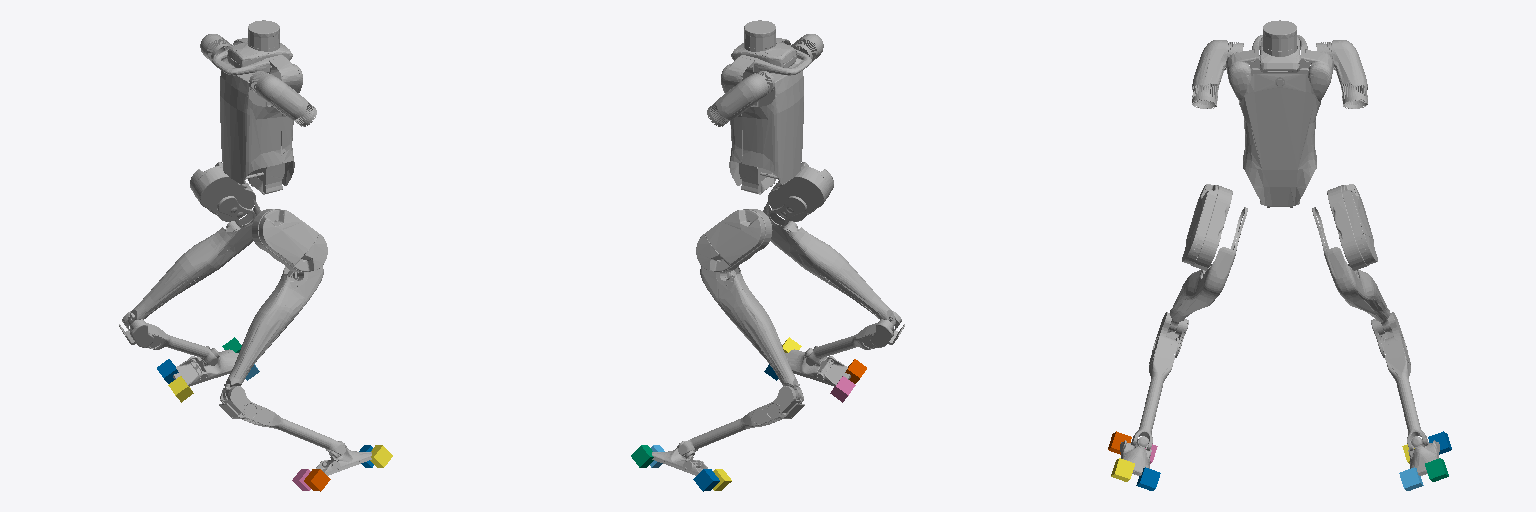
--- What the picture shows (computed from the rendered views, not written in the file) ---
Views: 3 orthographic renders of the robot side by side, from view 1: azimuth 30°, elevation 25°; view 2: azimuth 150°, elevation 25°; view 3: azimuth 270°, elevation 25°.
Robot: digit — 37 links, 36 joints (22 revolute, 14 fixed); root link torso; default pose: all joints at 0.
Links seen in each view (by area): view 1: torso, left_shin, right_shin, right_hip_pitch, left_hip_pitch, right_tarsus, right_shoulder_pitch, left_tarsus, left_toe_roll, right_toe_roll, right_shoulder_cap, left_shoulder_pitch; view 2: torso, right_shin, left_shin, left_hip_pitch, right_hip_pitch, left_tarsus, left_shoulder_pitch, right_tarsus, right_toe_roll, left_toe_roll, left_shoulder_cap, right_shoulder_pitch; view 3: torso, left_hip_pitch, right_hip_pitch, left_tarsus, right_tarsus, left_shin, right_shin, left_shoulder_pitch, right_shoulder_pitch, right_shoulder_cap, left_shoulder_cap, left_toe_roll (+1 smaller).
Boxes of the visible links, box(x1,y1,x2,y2) form: torso: box(212, 20, 294, 194); left_shin: box(128, 199, 260, 327); right_shin: box(224, 266, 323, 397); right_hip_pitch: box(252, 209, 327, 271); left_hip_pitch: box(190, 162, 255, 226); right_tarsus: box(219, 386, 345, 454); right_shoulder_pitch: box(249, 71, 316, 126); left_tarsus: box(119, 311, 217, 365); left_toe_roll: box(173, 348, 238, 386); right_toe_roll: box(316, 441, 371, 475); right_shoulder_cap: box(269, 57, 302, 92); left_shoulder_pitch: box(200, 34, 232, 63); torso: box(729, 20, 811, 194); right_shin: box(763, 199, 895, 327); left_shin: box(700, 266, 799, 397); left_hip_pitch: box(696, 209, 772, 271); right_hip_pitch: box(768, 162, 833, 226); left_tarsus: box(678, 386, 804, 454); left_shoulder_pitch: box(707, 71, 774, 126); right_tarsus: box(806, 311, 904, 365); right_toe_roll: box(785, 348, 850, 386); left_toe_roll: box(652, 441, 707, 475); left_shoulder_cap: box(721, 57, 754, 92); right_shoulder_pitch: box(791, 34, 823, 63); torso: box(1239, 20, 1320, 207); left_hip_pitch: box(1312, 184, 1377, 270); right_hip_pitch: box(1182, 184, 1247, 270); left_tarsus: box(1371, 312, 1428, 450); right_tarsus: box(1131, 312, 1188, 450); left_shin: box(1324, 247, 1392, 332); right_shin: box(1167, 247, 1235, 332); left_shoulder_pitch: box(1316, 40, 1367, 108); right_shoulder_pitch: box(1192, 40, 1243, 108); right_shoulder_cap: box(1226, 50, 1254, 102); left_shoulder_cap: box(1305, 50, 1333, 102); left_toe_roll: box(1408, 436, 1439, 475).
Size in the robot's own frame: 0.5285 by 1.01 by 1.44 metres.
Meshes: 14 distinct files referenced, 13 mesh visuals loaded (7 binary STL); not drawn: 14 (reference not matched to a file when rendering).

URDF robot description (digit):
<?xml version="1.0" encoding="utf-8"?>
<robot name="digit">
<!--  <mujoco>-->
<!--    <compiler meshdir="./meshes/" balanceinertia="true" discardvisual="false"/>-->
<!--  </mujoco>-->

<!--  <link name="base">-->
<!--    &lt;!&ndash; <visual>-->
<!--      <origin rpy="0 0 0" xyz="0 0 0"/>-->
<!--      <geometry>-->
<!--        <box size="0.001 0.001 0.001"/>-->
<!--      </geometry>-->
<!--    
      <material name="LightGrey">
          <color rgba="0.7 0.7 0.7 1.0"/>
        </material></visual>  &ndash;&gt;-->
<!--  </link>-->
<!--  <joint name="floating_base" type="revolute">-->
<!--    <origin rpy="0 0 0" xyz="0 0 0"/>-->
<!--    <parent link="base"/>-->
<!--    <child link="torso"/>-->
<!--  </joint>-->

  <link name="torso">
    <inertial>
      <origin rpy="0 0 0" xyz="0.001637 0.0002 0.259547"/>
      <mass value="15.028392"/>
      <inertia ixx="0.376284" ixy="-8.8e-05" ixz="0.008378" iyy="0.342655" iyz="6.7e-05" izz="0.100648"/>
    </inertial>
     <visual>
      <origin rpy="0 0 0" xyz="0 0 0"/>
      <geometry>
        <mesh filename="package://digit_description//meshes/torso.stl"/>
      </geometry>
    
      <material name="LightGrey">
          <color rgba="0.7 0.7 0.7 1.0"/>
        </material></visual> 
    <collision>
      <origin rpy="0 0 0" xyz="0 0 0"/>
      <geometry>
        <mesh filename="package://digit_description//meshes/torso.stl"/>
      </geometry>
    </collision>
  </link>
  <link name="left_hip_roll">
    <inertial>
      <origin rpy="0 0 0" xyz="-0.001967 0.000244 0.031435"/>
      <mass value="0.915088"/>
      <inertia ixx="0.001017" ixy="-3e-06" ixz="1.3e-05" iyy="0.001148" iyz="-4e-06" izz="0.000766"/>
    </inertial>
     <visual>
      <origin rpy="0 0 0" xyz="0 0 0"/>
      <geometry>
        <mesh filename="package://digit_description//meshes/hip-yaw-housing.stl"/>
      </geometry>
    
      <material name="LightGrey">
          <color rgba="0.7 0.7 0.7 1.0"/>
        </material>
      <material name="LightGrey">
          <color rgba="0.7 0.7 0.7 1.0"/>
        </material></visual> 
    <collision>
      <origin rpy="0 0 0" xyz="0 0 0"/>
      <geometry>
        <mesh filename="package://digit_description//meshes/hip-yaw-housing.stl"/>
      </geometry>
    </collision> 
  </link>
  <link name="left_hip_yaw">
    <inertial>
      <origin rpy="0 0 0" xyz="1e-05 -0.001945 0.042033"/>
      <mass value="0.818753"/>
      <inertia ixx="0.001627" ixy="-1e-06" ixz="2e-06" iyy="0.001929" iyz="5.3e-05" izz="0.00077"/>
    </inertial>
     <visual>
      <origin rpy="0 0 0" xyz="0 0 0"/>
      <geometry>
        <mesh filename="package://digit_description//meshes/hip-pitch-housing.stl"/>
      </geometry>
    
      <material name="LightGrey">
          <color rgba="0.7 0.7 0.7 1.0"/>
        </material></visual> 
    <collision>
      <origin rpy="0 0 0" xyz="0 0 0"/>
      <geometry>
        <mesh filename="package://digit_description//meshes/hip-pitch-housing.stl"/>
      </geometry>
    </collision> 
  </link>
  <link name="left_hip_pitch">
    <inertial>
      <origin rpy="0 0 0" xyz="0.060537 0.000521 -0.038857"/>
      <mass value="6.244279"/>
      <inertia ixx="0.011533" ixy="-0.000171" ixz="0.000148" iyy="0.033345" iyz="0.000178" izz="0.033958"/>
    </inertial>
     <visual>
      <origin rpy="0 0 0" xyz="0 0 0"/>
      <geometry>
        <mesh filename="package://digit_description//meshes/hip-pitch.stl"/>
      </geometry>
    
      <material name="LightGrey">
          <color rgba="0.7 0.7 0.7 1.0"/>
        </material></visual> 
    <collision>
      <origin rpy="0 0 0" xyz="0 0 0"/>
      <geometry>
        <mesh filename="package://digit_description//meshes/hip-pitch.stl"/>
      </geometry>
    </collision> 
  </link>
  <link name="left_knee">
    <inertial>
      <origin rpy="0 0 0" xyz="0.045641 0.042154 0.001657"/>
      <mass value="1.227077"/>
      <inertia ixx="0.002643" ixy="-0.001832" ixz="6.6e-05" iyy="0.005098" iyz="4.5e-05" izz="0.007019"/>
    </inertial>
     <visual>
      <origin rpy="0 0 0" xyz="0 0 0"/>
      <geometry>
        <mesh filename="package://digit_description//meshes/knee.stl"/>
      </geometry>
    
      <material name="LightGrey">
          <color rgba="0.7 0.7 0.7 1.0"/>
        </material></visual> 
    <collision>
      <origin rpy="0 0 0" xyz="0 0 0"/>
      <geometry>
        <mesh filename="package://digit_description//meshes/knee.stl"/>
      </geometry>
    </collision> 
  </link>
  <link name="left_shin">
    <inertial>
      <origin rpy="0 0 0" xyz="0.174265 0.010265 0.00107"/>
      <mass value="0.895793"/>
      <inertia ixx="0.001128" ixy="0.001098" ixz="0.000196" iyy="0.022492" iyz="-3e-06" izz="0.022793"/>
    </inertial>
     <visual>
      <origin rpy="0 0 0" xyz="0 0 0"/>
      <geometry>
        <mesh filename="package://digit_description//meshes/shin.stl"/>
      </geometry>
    
      <material name="LightGrey">
          <color rgba="0.7 0.7 0.7 1.0"/>
        </material></visual> 
    <collision>
      <origin rpy="0 0 0" xyz="0 0 0"/>
      <geometry>
        <mesh filename="package://digit_description//meshes/shin.stl"/>
      </geometry>
    </collision> 
  </link>
  <link name="left_tarsus">
    <inertial>
      <origin rpy="0 0 0" xyz="0.000932 -0.029183 0.000678"/>
      <mass value="1.322865"/>
      <inertia ixx="0.000932" ixy="0.00061" ixz="0.000102" iyy="0.016409" iyz="9e-06" izz="0.016501"/>
    </inertial>
     <visual>
      <origin rpy="0 0 0" xyz="0 0 0"/>
      <geometry>
        <mesh filename="package://digit_description//meshes/tarsus.stl"/>
      </geometry>
    
      <material name="LightGrey">
          <color rgba="0.7 0.7 0.7 1.0"/>
        </material></visual> 
    <collision>
      <origin rpy="0 0 0" xyz="0 0 0"/>
      <geometry>
        <mesh filename="package://digit_description//meshes/tarsus.stl"/>
      </geometry>
    </collision> 
  </link>
  <link name="left_toe_pitch">
    <inertial>
      <origin rpy="0 0 0" xyz="-0.000141 2e-06 3e-06"/>
      <mass value="0.043881"/>
      <inertia ixx="5e-06" ixy="0" ixz="0" iyy="8e-06" iyz="0" izz="5e-06"/>
    </inertial>
     <visual>
      <origin rpy="0 0 0" xyz="0 0 0"/>
      <geometry>
        <mesh filename="package://digit_description//meshes/toe-pitch.stl"/>
      </geometry>
    
      <material name="LightGrey">
          <color rgba="0.7 0.7 0.7 1.0"/>
        </material></visual> 
    <collision>
      <origin rpy="0 0 0" xyz="0 0 0"/>
      <geometry>
        <mesh filename="package://digit_description//meshes/toe-pitch.stl"/>
      </geometry>
    </collision> 
  </link>
  <link name="left_toe_roll">
    <inertial>
      <origin rpy="0 0 0" xyz="9e-06 -0.028084 -0.023204"/>
      <mass value="0.531283"/>
      <inertia ixx="0.00187" ixy="0" ixz="0" iyy="0.001616" iyz="0.000566" izz="0.000843"/>
    </inertial>
     <visual>
      <origin rpy="0 0 0" xyz="0 0 0"/>
      <geometry>
        <mesh filename="package://digit_description//meshes/toe-roll.stl"/>
      </geometry>
    
      <material name="LightGrey">
          <color rgba="0.7 0.7 0.7 1.0"/>
        </material></visual> 
    <collision>
      <origin rpy="0 0 0" xyz="0 0 0"/>
      <geometry>
        <mesh filename="package://digit_description//meshes/toe-roll.stl"/>
      </geometry>
    </collision> 
  </link>
  <link name="contact1">
    <visual>
      <origin rpy="0 0 0" xyz="-0.04000014 -0.11085709 0.07003817"/>
      <geometry>
        <box size="0.05 0.05 0.05" rgba="0 0 1"/>
      </geometry>
    </visual>
  </link>
  <link name="contact2">
    <visual>
      <origin rpy="0 0 0" xyz="0.03999983 -0.11082681 0.07005585"/>
      <geometry>
        <box size="0.05 0.05 0.05" rgba="1 1 0"/>
      </geometry>
    </visual>
  </link>
    <link name="contact3">
    <visual>
      <origin rpy="0 0 0" xyz="-0.04000029 0.00799069 -0.13385178"/>
      <geometry>
        <box size="0.05 0.05 0.05" rgba="1 0 0"/>
      </geometry>
    </visual>
  </link>
  <link name="contact4">
    <visual>
      <origin rpy="0 0 0" xyz="0.03999968 0.00802097 -0.13383410"/>
      <geometry>
        <box size="0.05 0.05 0.05" rgba="0 1 0"/>
      </geometry>
    </visual>
  </link>
  <link name="left_shoulder_roll">
    <inertial>
      <origin rpy="0 0 0" xyz="9e-06 -0.003158 0.023405"/>
      <mass value="0.535396"/>
      <inertia ixx="0.000704" ixy="1.4e-05" ixz="1.2e-05" iyy="0.00075" iyz="3.5e-05" izz="0.000298"/>
    </inertial>
     <visual>
      <origin rpy="0 0 0" xyz="0 0 0"/>
      <geometry>
        <mesh filename="package://digit_description//meshes/arm-L1.stl"/>
      </geometry>
    
      <material name="LightGrey">
          <color rgba="0.7 0.7 0.7 1.0"/>
        </material></visual> 
    <collision>
      <origin rpy="0 0 0" xyz="0 0 0"/>
      <geometry>
        <mesh filename="package://digit_description//meshes/arm-L1.stl"/>
      </geometry>
    </collision> 
  </link>
  <link name="left_shoulder_cap">
    <inertial>
      <origin rpy="0 0 0" xyz="9e-06 -0.003158 0.023405"/>
      <mass value="0.535396"/>
      <inertia ixx="0.000704" ixy="1.4e-05" ixz="1.2e-05" iyy="0.00075" iyz="3.5e-05" izz="0.000298"/>
    </inertial>
     <visual>
      <origin rpy="0 0 0" xyz="0 0 0"/>
      <geometry>
        <mesh filename="package://digit_description//meshes/shoulder-roll-housing.stl"/>
      </geometry>
    
      <material name="LightGrey">
          <color rgba="0.7 0.7 0.7 1.0"/>
        </material></visual> 
    <collision>
      <origin rpy="0 0 0" xyz="0 0 0"/>
      <geometry>
        <mesh filename="package://digit_description//meshes/shoulder-roll-housing.stl"/>
      </geometry>
    </collision> 
  </link>
  <link name="left_waist_cap">
    <inertial>
      <origin rpy="0 0 0" xyz="9e-06 -0.003158 0.023405"/>
      <mass value="0.535396"/>
      <inertia ixx="0.000704" ixy="1.4e-05" ixz="1.2e-05" iyy="0.00075" iyz="3.5e-05" izz="0.000298"/>
    </inertial>
  </link>
  <link name="left_shoulder_pitch">
    <inertial>
      <origin rpy="0 0 0" xyz="-4.2e-05 -0.061882 -0.073788"/>
      <mass value="1.440357"/>
      <inertia ixx="0.006761" ixy="-6e-06" ixz="-3e-06" iyy="0.002087" iyz="-0.002046" izz="0.005778"/>
    </inertial>
     <visual>
      <origin rpy="0 0 0" xyz="0 0 0"/>
      <geometry>
        <mesh filename="package://digit_description//meshes/arm-L2.stl"/>
      </geometry>
    
      <material name="LightGrey">
          <color rgba="0.7 0.7 0.7 1.0"/>
        </material></visual> 
    <collision>
      <origin rpy="0 0 0" xyz="0 0 0"/>
      <geometry>
        <mesh filename="package://digit_description//meshes/arm-L2.stl"/>
      </geometry>
    </collision> 
  </link>
  <link name="left_shoulder_yaw">
    <inertial>
      <origin rpy="0 0 0" xyz="-3e-05 -0.001937 0.11407"/>
      <mass value="1.065387"/>
      <inertia ixx="0.006967" ixy="1e-06" ixz="-1e-06" iyy="0.007003" iyz="1.5e-05" izz="0.000673"/>
    </inertial>
     <visual>
      <origin rpy="0 0 0" xyz="0 0 0"/>
      <geometry>
        <mesh filename="package://digit_description//meshes/arm-L3.stl"/>
      </geometry>
    
      <material name="LightGrey">
          <color rgba="0.7 0.7 0.7 1.0"/>
        </material></visual> 
    <collision>
      <origin rpy="0 0 0" xyz="0 0 0"/>
      <geometry>
        <mesh filename="package://digit_description//meshes/arm-L3.stl"/>
      </geometry>
    </collision> 
  </link>
  <link name="left_elbow">
    <inertial>
      <origin rpy="0 0 0" xyz="0.107996 -0.000521 -0.017765"/>
      <mass value="0.550582"/>
      <inertia ixx="0.000476" ixy="2.9e-05" ixz="0.001403" iyy="0.009564" iyz="1.5e-05" izz="-9e-06"/>
    </inertial>
     <visual>
      <origin rpy="0 0 0" xyz="0 0 0"/>
      <geometry>
        <mesh filename="package://digit_description//meshes/arm-L4.stl"/>
      </geometry>
    
      <material name="LightGrey">
          <color rgba="0.7 0.7 0.7 1.0"/>
        </material></visual> 
    <collision>
      <origin rpy="0 0 0" xyz="0 0 0"/>
      <geometry>
        <mesh filename="package://digit_description//meshes/arm-L4.stl"/>
      </geometry>
    </collision> 
  </link>
  <link name="right_hip_roll">
    <inertial>
      <origin rpy="0 0 0" xyz="-0.001967 -0.000244 0.031435"/>
      <mass value="0.915088"/>
      <inertia ixx="0.001017" ixy="3e-06" ixz="1.3e-05" iyy="0.001148" iyz="4e-06" izz="0.000766"/>
    </inertial>
     <visual>
      <origin rpy="0 0 0" xyz="0 0 0"/>
      <geometry>
        <mesh filename="package://digit_description//meshes/hip-yaw-housing.stl" scale="1 -1 1"/>
      </geometry>
    
      <material name="LightGrey">
          <color rgba="0.7 0.7 0.7 1.0"/>
        </material></visual> 
    <collision>
      <origin rpy="0 0 0" xyz="0 0 0"/>
      <geometry>
        <mesh filename="package://digit_description//meshes/hip-yaw-housing.stl" scale="1 -1 1"/>
      </geometry>
    </collision> 
  </link>
  <link name="right_hip_yaw">
    <inertial>
      <origin rpy="0 0 0" xyz="1e-05 0.001945 0.042033"/>
      <mass value="0.818753"/>
      <inertia ixx="0.001627" ixy="1e-06" ixz="2e-06" iyy="0.001929" iyz="-5.3e-05" izz="0.00077"/>
    </inertial>
     <visual>
      <origin rpy="0 0 0" xyz="0 0 0"/>
      <geometry>
        <mesh filename="package://digit_description//meshes/hip-pitch-housing.stl" scale="1 -1 1"/>
      </geometry>
    
      <material name="LightGrey">
          <color rgba="0.7 0.7 0.7 1.0"/>
        </material></visual> 
    <collision>
      <origin rpy="0 0 0" xyz="0 0 0"/>
      <geometry>
        <mesh filename="package://digit_description//meshes/hip-pitch-housing.stl" scale="1 -1 1"/>
      </geometry>
    </collision> 
  </link>
  <link name="right_hip_pitch">
    <inertial>
      <origin rpy="0 0 0" xyz="0.060537 -0.000521 -0.038857"/>
      <mass value="6.244279"/>
      <inertia ixx="0.011533" ixy="0.000171" ixz="0.000148" iyy="0.033345" iyz="-0.000178" izz="0.033958"/>
    </inertial>
     <visual>
      <origin rpy="0 0 0" xyz="0 0 0"/>
      <geometry>
        <mesh filename="package://digit_description//meshes/hip-pitch.stl" scale="1 -1 1"/>
      </geometry>
    
      <material name="LightGrey">
          <color rgba="0.7 0.7 0.7 1.0"/>
        </material></visual> 
    <collision>
      <origin rpy="0 0 0" xyz="0 0 0"/>
      <geometry>
        <mesh filename="package://digit_description//meshes/hip-pitch.stl" scale="1 -1 1"/>
      </geometry>
    </collision> 
  </link>
  <link name="right_knee">
    <inertial>
      <origin rpy="0 0 0" xyz="0.045641 -0.042154 0.001657"/>
      <mass value="1.227077"/>
      <inertia ixx="0.002643" ixy="0.001832" ixz="6.6e-05" iyy="0.005098" iyz="-4.5e-05" izz="0.007019"/>
    </inertial>
     <visual>
      <origin rpy="0 0 0" xyz="0 0 0"/>
      <geometry>
        <mesh filename="package://digit_description//meshes/knee.stl" scale="1 -1 1"/>
      </geometry>
    
      <material name="LightGrey">
          <color rgba="0.7 0.7 0.7 1.0"/>
        </material></visual> 
    <collision>
      <origin rpy="0 0 0" xyz="0 0 0"/>
      <geometry>
        <mesh filename="package://digit_description//meshes/knee.stl" scale="1 -1 1"/>
      </geometry>
    </collision> 
  </link>
  <link name="right_shin">
    <inertial>
      <origin rpy="0 0 0" xyz="0.174265 -0.010265 0.00107"/>
      <mass value="0.895793"/>
      <inertia ixx="0.001128" ixy="-0.001098" ixz="0.000196" iyy="0.022492" iyz="3e-06" izz="0.022793"/>
    </inertial>
     <visual>
      <origin rpy="0 0 0" xyz="0 0 0"/>
      <geometry>
        <mesh filename="package://digit_description//meshes/shin.stl" scale="1 -1 1"/>
      </geometry>
    
      <material name="LightGrey">
          <color rgba="0.7 0.7 0.7 1.0"/>
        </material></visual> 
    <collision>
      <origin rpy="0 0 0" xyz="0 0 0"/>
      <geometry>
        <mesh filename="package://digit_description//meshes/shin.stl" scale="1 -1 1"/>
      </geometry>
    </collision> 
  </link>
  <link name="right_tarsus">
    <inertial>
      <origin rpy="0 0 0" xyz="0.000932 0.029183 0.000678"/>
      <mass value="1.322865"/>
      <inertia ixx="0.000932" ixy="-0.00061" ixz="0.000102" iyy="0.016409" iyz="-9e-06" izz="0.016501"/>
    </inertial>
     <visual>
      <origin rpy="0 0 0" xyz="0 0 0"/>
      <geometry>
        <mesh filename="package://digit_description//meshes/tarsus.stl" scale="1 -1 1"/>
      </geometry>
    
      <material name="LightGrey">
          <color rgba="0.7 0.7 0.7 1.0"/>
        </material></visual> 
    <collision>
      <origin rpy="0 0 0" xyz="0 0 0"/>
      <geometry>
        <mesh filename="package://digit_description//meshes/tarsus.stl" scale="1 -1 1"/>
      </geometry>
    </collision> 
  </link>
  <link name="right_toe_pitch">
    <inertial>
      <origin rpy="0 0 0" xyz="-0.000141 -2e-06 3e-06"/>
      <mass value="0.043881"/>
      <inertia ixx="5e-06" ixy="0" ixz="0" iyy="8e-06" iyz="0" izz="5e-06"/>
    </inertial>
     <visual>
      <origin rpy="0 0 0" xyz="0 0 0"/>
      <geometry>
        <mesh filename="package://digit_description//meshes/toe-pitch.stl" scale="1 -1 1"/>
      </geometry>
    
      <material name="LightGrey">
          <color rgba="0.7 0.7 0.7 1.0"/>
        </material></visual> 
    <collision>
      <origin rpy="0 0 0" xyz="0 0 0"/>
      <geometry>
        <mesh filename="package://digit_description//meshes/toe-pitch.stl" scale="1 -1 1"/>
      </geometry>
    </collision> 
  </link>
  <link name="right_toe_roll">
    <inertial>
      <origin rpy="0 0 0" xyz="9e-06 0.028084 -0.023204"/>
      <mass value="0.531283"/>
      <inertia ixx="0.00187" ixy="0" ixz="0" iyy="0.001616" iyz="-0.000566" izz="0.000843"/>
    </inertial>
     <visual>
      <origin rpy="0 0 0" xyz="0 0 0"/>
      <geometry>
        <mesh filename="package://digit_description//meshes/toe-roll.stl" scale="1 -1 1"/>
      </geometry>
    
      <material name="LightGrey">
          <color rgba="0.7 0.7 0.7 1.0"/>
        </material></visual> 
    <collision>
      <origin rpy="0 0 0" xyz="0 0 0"/>
      <geometry>
        <mesh filename="package://digit_description//meshes/toe-roll.stl" scale="1 -1 1"/>
      </geometry>
    </collision> 
  </link>
  <link name="contact5">
    <visual>
      <origin rpy="0 0 0" xyz="0.03999945 0.11063009 0.07017034"/>
      <geometry>
        <box size="0.05 0.05 0.05" rgba="0 0 1"/>
      </geometry>
    </visual>
  </link>
  <link name="contact6">
    <visual>
      <origin rpy="0 0 0" xyz="-0.04000014 0.11085020 0.07004217"/>
      <geometry>
        <box size="0.05 0.05 0.05" rgba="0 0 1"/>
      </geometry>
    </visual>
  </link>
  <link name="contact7">
    <visual>
      <origin rpy="0 0 0" xyz="0.03999968 -0.00801787 -0.13383595"/>
      <geometry>
        <box size="0.05 0.05 0.05" rgba="0 0 1"/>
      </geometry>
    </visual>
  </link>
  <link name="contact8">
    <visual>
      <origin rpy="0 0 0" xyz="-0.04000029 -0.00798741 -0.13385373"/>
      <geometry>
        <box size="0.05 0.05 0.05" rgba="0 0 1"/>
      </geometry>
    </visual>
  </link>

  <link name="right_shoulder_roll">
    <inertial>
      <origin rpy="0 0 0" xyz="9e-06 0.003158 0.023405"/>
      <mass value="0.535396"/>
      <inertia ixx="0.000704" ixy="-1.4e-05" ixz="1.2e-05" iyy="0.00075" iyz="-3.5e-05" izz="0.000298"/>
    </inertial>
     <visual>
      <origin rpy="0 0 0" xyz="0 0 0"/>
      <geometry>
        <mesh filename="package://digit_description//meshes/arm-L1.stl" scale="1 -1 1"/>
      </geometry>
    
      <material name="LightGrey">
          <color rgba="0.7 0.7 0.7 1.0"/>
        </material></visual> 
    <collision>
      <origin rpy="0 0 0" xyz="0 0 0"/>
      <geometry>
        <mesh filename="package://digit_description//meshes/arm-L1.stl" scale="1 -1 1"/>
      </geometry>
    </collision> 
  </link>
  <link name="right_shoulder_cap">
    <inertial>
      <origin rpy="0 0 0" xyz="9e-06 0.003158 0.023405"/>
      <mass value="0.535396"/>
      <inertia ixx="0.000704" ixy="-1.4e-05" ixz="1.2e-05" iyy="0.00075" iyz="-3.5e-05" izz="0.000298"/>
    </inertial>
     <visual>
      <origin rpy="0 0 0" xyz="0 0 0"/>
      <geometry>
        <mesh filename="package://digit_description//meshes/shoulder-roll-housing.stl" scale="1 -1 1"/>
      </geometry>
    
      <material name="LightGrey">
          <color rgba="0.7 0.7 0.7 1.0"/>
        </material></visual> 
    <collision>
      <origin rpy="0 0 0" xyz="0 0 0"/>
      <geometry>
        <mesh filename="package://digit_description//meshes/shoulder-roll-housing.stl" scale="1 -1 1"/>
      </geometry>
    </collision> 
  </link>
  <link name="right_waist_cap">
    <inertial>
      <origin rpy="0 0 0" xyz="9e-06 0.003158 0.023405"/>
      <mass value="0.535396"/>
      <inertia ixx="0.000704" ixy="-1.4e-05" ixz="1.2e-05" iyy="0.00075" iyz="-3.5e-05" izz="0.000298"/>
    </inertial>
  </link>
  <link name="right_shoulder_pitch">
    <inertial>
      <origin rpy="0 0 0" xyz="-4.2e-05 0.061882 -0.073788"/>
      <mass value="1.440357"/>
      <inertia ixx="0.006761" ixy="6e-06" ixz="-3e-06" iyy="0.002087" iyz="0.002046" izz="0.005778"/>
    </inertial>
     <visual>
      <origin rpy="0 0 0" xyz="0 0 0"/>
      <geometry>
        <mesh filename="package://digit_description//meshes/arm-L2.stl" scale="1 -1 1"/>
      </geometry>
    
      <material name="LightGrey">
          <color rgba="0.7 0.7 0.7 1.0"/>
        </material></visual> 
    <collision>
      <origin rpy="0 0 0" xyz="0 0 0"/>
      <geometry>
        <mesh filename="package://digit_description//meshes/arm-L2.stl" scale="1 -1 1"/>
      </geometry>
    </collision> 
  </link>
  <link name="right_shoulder_yaw">
    <inertial>
      <origin rpy="0 0 0" xyz="-3e-05 0.001937 0.11407"/>
      <mass value="1.065387"/>
      <inertia ixx="0.006967" ixy="-1e-06" ixz="-1e-06" iyy="0.007003" iyz="-1.5e-05" izz="0.000673"/>
    </inertial>
     <visual>
      <origin rpy="0 0 0" xyz="0 0 0"/>
      <geometry>
        <mesh filename="package://digit_description//meshes/arm-L3.stl" scale="1 -1 1"/>
      </geometry>
    
      <material name="LightGrey">
          <color rgba="0.7 0.7 0.7 1.0"/>
        </material></visual> 
    <collision>
      <origin rpy="0 0 0" xyz="0 0 0"/>
      <geometry>
        <mesh filename="package://digit_description//meshes/arm-L3.stl" scale="1 -1 1"/>
      </geometry>
    </collision> 
  </link>
  <link name="right_elbow">
    <inertial>
      <origin rpy="0 0 0" xyz="0.107996 0.000521 -0.017765"/>
      <mass value="0.550582"/>
      <inertia ixx="0.000476" ixy="-2.9e-05" ixz="0.001403" iyy="0.009564" iyz="-1.5e-05" izz="-9e-06"/>
    </inertial>
     <visual>
      <origin rpy="0 0 0" xyz="0 0 0"/>
      <geometry>
        <mesh filename="package://digit_description//meshes/arm-L4.stl" scale="1 -1 1"/>
      </geometry>
    
      <material name="LightGrey">
          <color rgba="0.7 0.7 0.7 1.0"/>
        </material></visual> 
    <collision>
      <origin rpy="0 0 0" xyz="0 0 0"/>
      <geometry>
        <mesh filename="package://digit_description//meshes/arm-L4.stl" scale="1 -1 1"/>
      </geometry>
    </collision> 
  </link>
  <joint name="hip_abduction_left" type="revolute">
    <origin rpy="1.57079632679 -1.1955506 -1.57079632679" xyz="-0.001 0.091 0"/>
    <axis xyz="0 0 1"/>
    <parent link="torso"/>
    <child link="left_hip_roll"/>
    <limit effort="1.4" lower="-1.0472" upper="1.0472" velocity="12.15"/>
  </joint>
  <joint name="hip_rotation_left" type="revolute">
    <origin rpy="0 -1.57079632679 0" xyz="-0.0505 0 0.044"/>
    <axis xyz="0 0 1"/>
    <parent link="left_hip_roll"/>
    <child link="left_hip_yaw"/>
    <limit effort="1.4" lower="-0.698132" upper="0.698132" velocity="12.15"/>
  </joint>
  <joint name="hip_flexion_left" type="revolute">
    <origin rpy="-1.57079632679 -0.785398163397 3.14159265359" xyz="0 0.004 0.068"/>
    <axis xyz="0 0 -1"/>
    <parent link="left_hip_yaw"/>
    <child link="left_hip_pitch"/>
    <limit effort="12.5" lower="-1.0472" upper="1.57079632679" velocity="8.5"/>
  </joint>
  <joint name="knee_joint_left" type="revolute">
    <origin rpy="0 0 -1.57079632679" xyz="0.12 0 0.0045"/>
    <axis xyz="0 0 1"/>
    <parent link="left_hip_pitch"/>
    <child link="left_knee"/>
    <limit effort="12.5" lower="-1.2392" upper="0.8727" velocity="8.5085"/>
  </joint>
  <joint name="knee_to_shin_left" type="fixed">
    <origin rpy="0 0 0" xyz="0.060677 0.047406 0"/>
    <axis xyz="0 0 1"/>
    <parent link="left_knee"/>
    <child link="left_shin"/>
    <limit effort="0" lower="-0.35" upper="0.35" velocity="10"/>
  </joint>
  <joint name="shin_to_tarsus_left" type="revolute">
    <origin rpy="0 0 1.7976891" xyz="0.434759 0.02 0"/>
    <axis xyz="0 0 1"/>
    <parent link="left_shin"/>
    <child link="left_tarsus"/>
    <limit effort="0" lower="-0.8779" upper="1.2497" velocity="20"/>
  </joint>
  <joint name="toe_pitch_joint_left" type="revolute">
    <origin rpy="0 0 1.1956" xyz="0.408 -0.04 0"/>
    <axis xyz="0 0 1"/>
    <parent link="left_tarsus"/>
    <child link="left_toe_pitch"/>
    <limit effort="0.9" lower="-0.785398163397" upper="0.785398163397" velocity="11.5"/>
  </joint>
  <joint name="toe_roll_joint_left" type="revolute">
    <origin rpy="0 1.57079632679 0" xyz="0 0 0"/>
    <axis xyz="0 0 1"/>
    <parent link="left_toe_pitch"/>
    <child link="left_toe_roll"/>
    <limit effort="0.9" lower="-0.6109" upper="0.6109" velocity="11.5"/>
  </joint>
  <joint name="contact1" type="fixed">
    <origin rpy="0 0 0" xyz="0 0 0"/>
    <parent link="left_toe_roll"/>
    <child link="contact1"/>
  </joint>
  <joint name="contact2" type="fixed">
    <origin rpy="0 0 0" xyz="0 0 0"/>
    <parent link="left_toe_roll"/>
    <child link="contact2"/>
  </joint>
  <joint name="contact3" type="fixed">
    <origin rpy="0 0 0" xyz="0 0 0"/>
    <parent link="left_toe_roll"/>
    <child link="contact3"/>
  </joint>
  <joint name="contact4" type="fixed">
    <origin rpy="0 0 0" xyz="0 0 0"/>
    <parent link="left_toe_roll"/>
    <child link="contact4"/>
  </joint>
  <joint name="shoulder_roll_joint_left" type="revolute">
    <origin rpy="-1.57079632679 -1.3962633 1.57079632679" xyz="-0.001 0.12 0.4"/>
    <axis xyz="0 0 1"/>
    <parent link="torso"/>
    <child link="left_shoulder_roll"/>
    <limit effort="1.4" lower="-1.309" upper="1.309" velocity="12.5"/>
  </joint>
  <joint name="shoulder_roll_cap_left" type="fixed">
    <origin rpy="-1.57079632679 -1.3962633 1.57079632679" xyz="0.001 0.12 0.4"/>
    <axis xyz="0 0 1"/>
    <parent link="torso"/>
    <child link="left_shoulder_cap"/>
    <limit effort="1.4" lower="-1.309" upper="1.309" velocity="12.5"/>
  </joint>
  <joint name="shoulder_pitch_joint_left" type="revolute">
    <origin rpy="1.57079632679 0.785398163397 -0.2792527" xyz="-0.00317 -0.011055 0.0555"/>
    <axis xyz="0 0 -1"/>
    <parent link="left_shoulder_roll"/>
    <child link="left_shoulder_pitch"/>
    <limit effort="1.4" lower="-2.5307" upper="2.5307" velocity="12.5"/>
  </joint>
  <joint name="shoulder_yaw_joint_left" type="revolute">
    <origin rpy="1.57079632679 0 0" xyz="0 -0.165 -0.1"/>
    <axis xyz="0 0 1"/>
    <parent link="left_shoulder_pitch"/>
    <child link="left_shoulder_yaw"/>
    <limit effort="1.4" lower="-1.7453" upper="1.7453" velocity="10"/>
  </joint>
  <joint name="elbow_joint_left" type="revolute">
    <origin rpy="1.57079632679 -0.3926991 0" xyz="0 -0.0385 0.185"/>
    <axis xyz="0 0 1"/>
    <parent link="left_shoulder_yaw"/>
    <child link="left_elbow"/>
    <limit effort="1.4" lower="-1.3526" upper="1.3526" velocity="12.5"/>
  </joint>
  <joint name="hip_abduction_right" type="revolute">
    <origin rpy="-1.57079632679 -1.1955506 1.57079632679" xyz="-0.001 -0.091 0"/>
    <axis xyz="0 0 1"/>
    <parent link="torso"/>
    <child link="right_hip_roll"/>
    <limit effort="1.4" lower="-1.0472" upper="1.0472" velocity="12.15"/>
  </joint>
  <joint name="hip_rotation_right" type="revolute">
    <origin rpy="0 -1.57079632679 0" xyz="-0.0505 0 0.044"/>
    <axis xyz="0 0 1"/>
    <parent link="right_hip_roll"/>
    <child link="right_hip_yaw"/>
    <limit effort="1.4" lower="-0.698132" upper="0.698132" velocity="12.15"/>
  </joint>
  <joint name="hip_flexion_right" type="revolute">
    <origin rpy="1.57079632679 -0.785398163397 -3.14159265359" xyz="0 -0.004 0.068"/>
    <axis xyz="0 0 -1"/>
    <parent link="right_hip_yaw"/>
    <child link="right_hip_pitch"/>
    <limit effort="12.5" lower="-1.57079632679" upper="1.0472" velocity="8.5"/>
  </joint>
  <joint name="knee_joint_right" type="revolute">
    <origin rpy="0 0 1.57079632679" xyz="0.12 0 0.0045"/>
    <axis xyz="0 0 1"/>
    <parent link="right_hip_pitch"/>
    <child link="right_knee"/>
    <limit effort="12.5" lower="-0.8727" upper="1.2392" velocity="8.5085"/>
  </joint>
  <joint name="knee_to_shin_right" type="fixed">
    <origin rpy="0 0 0" xyz="0.060677 -0.047406 0"/>
    <axis xyz="0 0 1"/>
    <parent link="right_knee"/>
    <child link="right_shin"/>
    <limit effort="0" lower="-0.35" upper="0.35" velocity="10"/>
  </joint>
  <joint name="shin_to_tarsus_right" type="revolute">
    <origin rpy="0 0 -1.7976891" xyz="0.434759 -0.02 0"/>
    <axis xyz="0 0 1"/>
    <parent link="right_shin"/>
    <child link="right_tarsus"/>
    <limit effort="0" lower="-1.2497" upper="0.8779" velocity="20"/>
  </joint>
  <joint name="toe_pitch_joint_right" type="revolute">
    <origin rpy="0 0 -1.1956" xyz="0.408 0.04 0"/>
    <axis xyz="0 0 1"/>
    <parent link="right_tarsus"/>
    <child link="right_toe_pitch"/>
    <limit effort="0.9" lower="-0.785398163397" upper="0.785398163397" velocity="11.5"/>
  </joint>
  <joint name="toe_roll_joint_right" type="revolute">
    <origin rpy="0 1.57079632679 0" xyz="0 0 0"/>
    <axis xyz="0 0 1"/>
    <parent link="right_toe_pitch"/>
    <child link="right_toe_roll"/>
    <limit effort="0.9" lower="-0.6109" upper="0.6109" velocity="11.5"/>
  </joint>
  <joint name="contact5" type="fixed">
    <origin rpy="0 0 0" xyz="0 0 0"/>
    <parent link="right_toe_roll"/>
    <child link="contact5"/>
  </joint>
  <joint name="contact6" type="fixed">
    <origin rpy="0 0 0" xyz="0 0 0"/>
    <parent link="right_toe_roll"/>
    <child link="contact6"/>
  </joint>
  <joint name="contact7" type="fixed">
    <origin rpy="0 0 0" xyz="0 0 0"/>
    <parent link="right_toe_roll"/>
    <child link="contact7"/>
  </joint>
  <joint name="contact8" type="fixed">
    <origin rpy="0 0 0" xyz="0 0 0"/>
    <parent link="right_toe_roll"/>
    <child link="contact8"/>
  </joint>

  <joint name="shoulder_roll_joint_right" type="revolute">
    <origin rpy="1.57079632679 -1.3962633 -1.57079632679" xyz="-0.001 -0.12 0.4"/>
    <axis xyz="0 0 1"/>
    <parent link="torso"/>
    <child link="right_shoulder_roll"/>
    <limit effort="1.4" lower="-1.309" upper="1.309" velocity="12.5"/>
  </joint>
  <joint name="shoulder_cap_joint_right" type="fixed">
    <origin rpy="1.57079632679 -1.3962633 -1.57079632679" xyz="0.001 -0.12 0.4"/>
    <axis xyz="0 0 1"/>
    <parent link="torso"/>
    <child link="right_shoulder_cap"/>
    <limit effort="1.4" lower="-1.309" upper="1.309" velocity="12.5"/>
  </joint>

  <joint name="waist_cap_joint_right" type="fixed">
    <origin rpy="1.57079632679 1.57 -1.57079632679" xyz="-0.001 -0.09 0.0"/>
    <axis xyz="0 0 1"/>
    <parent link="torso"/>
    <child link="left_waist_cap"/>
    <limit effort="1.4" lower="-1.309" upper="1.309" velocity="12.5"/>
  </joint>

  <joint name="waist_cap_joint_left" type="fixed">
    <origin rpy="-1.57079632679 1.57 1.57079632679" xyz="-0.001 0.09 0.0"/>
    <axis xyz="0 0 1"/>
    <parent link="torso"/>
    <child link="right_waist_cap"/>
    <limit effort="1.4" lower="-1.309" upper="1.309" velocity="12.5"/>
  </joint>

  <joint name="shoulder_pitch_joint_right" type="revolute">
    <origin rpy="-1.57079632679 0.785398163397 0.2792527" xyz="-0.00317 0.011055 0.0555"/>
    <axis xyz="0 0 -1"/>
    <parent link="right_shoulder_roll"/>
    <child link="right_shoulder_pitch"/>
    <limit effort="1.4" lower="-2.5307" upper="2.5307" velocity="12.5"/>
  </joint>
  <joint name="shoulder_yaw_joint_right" type="revolute">
    <origin rpy="-1.57079632679 0 0" xyz="0 0.165 -0.1"/>
    <axis xyz="0 0 1"/>
    <parent link="right_shoulder_pitch"/>
    <child link="right_shoulder_yaw"/>
    <limit effort="1.4" lower="-1.7453" upper="1.7453" velocity="10"/>
  </joint>
  <joint name="elbow_joint_right" type="revolute">
    <origin rpy="-1.57079632679 -0.3926991 0" xyz="0 0.0385 0.185"/>
    <axis xyz="0 0 1"/>
    <parent link="right_shoulder_yaw"/>
    <child link="right_elbow"/>
    <limit effort="1.4" lower="-1.3526" upper="1.3526" velocity="12.5"/>
  </joint>

</robot>
